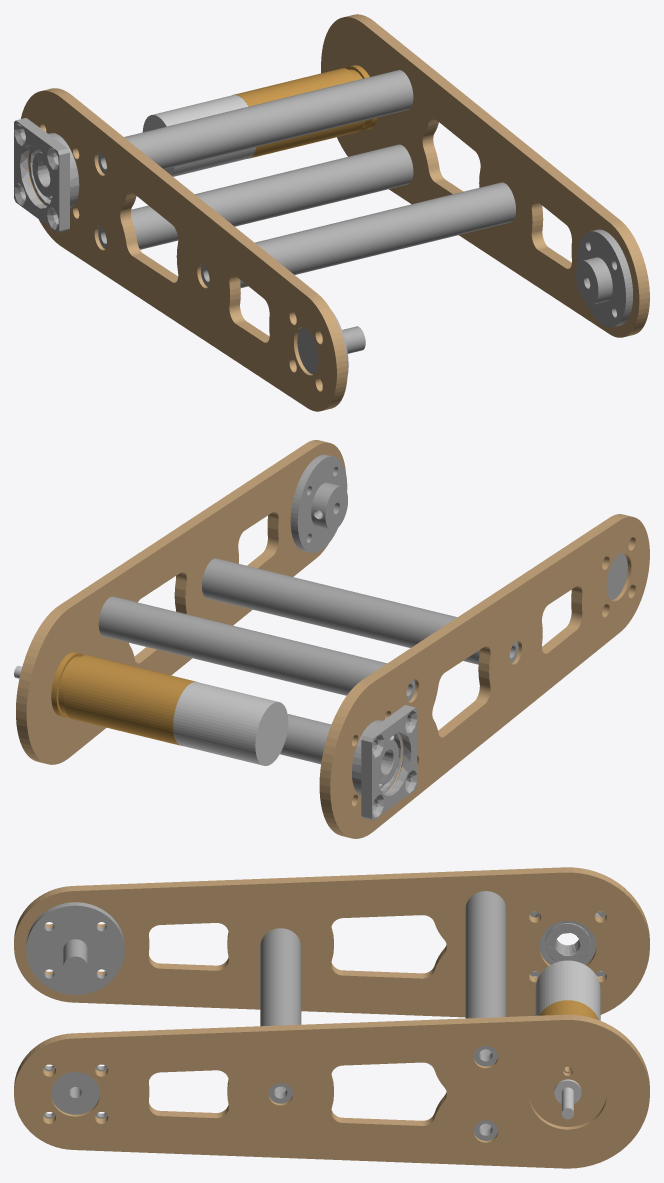
Rendered from ForeArm.dae.
3 renders of one model, top to bottom at view 1: azimuth 30°, elevation 25°; view 2: azimuth 150°, elevation 25°; view 3: azimuth 270°, elevation 25°, orthographic.
Visible parts, largest first — view 1: ForeArm, ForeArm_004, ForeArm_003, ForeArm_007, ForeArm_002, ForeArm_006, ForeArm_009, ForeArm_001; view 2: ForeArm, ForeArm_004, ForeArm_003, ForeArm_006, ForeArm_009, ForeArm_007, ForeArm_002, ForeArm_001; view 3: ForeArm, ForeArm_001, ForeArm_004, ForeArm_003, ForeArm_009, ForeArm_007, ForeArm_002, ForeArm_005, ForeArm_006.
Boxes of the visible parts, x1,y1,x2,y2 form: ForeArm: (21,14,649,411); ForeArm_004: (98,70,413,249); ForeArm_003: (201,182,515,287); ForeArm_007: (14,118,79,232); ForeArm_002: (576,229,632,327); ForeArm_006: (235,65,377,158); ForeArm_009: (142,94,256,176); ForeArm_001: (297,310,365,374); ForeArm: (16,440,649,838); ForeArm_004: (98,596,415,764); ForeArm_003: (202,558,518,664); ForeArm_006: (51,652,195,745); ForeArm_009: (173,681,288,765); ForeArm_007: (352,705,417,820); ForeArm_002: (290,454,347,552); ForeArm_001: (606,553,627,600); ForeArm: (14,867,649,1168); ForeArm_001: (26,902,124,994); ForeArm_004: (465,891,506,1140); ForeArm_003: (260,928,301,1103); ForeArm_009: (535,960,600,1020); ForeArm_007: (530,911,605,976); ForeArm_002: (43,1065,107,1118); ForeArm_005: (554,1079,581,1119); ForeArm_006: (539,1000,598,1019).
Size of the model in its own units: 106 by 155 by 39.98.
